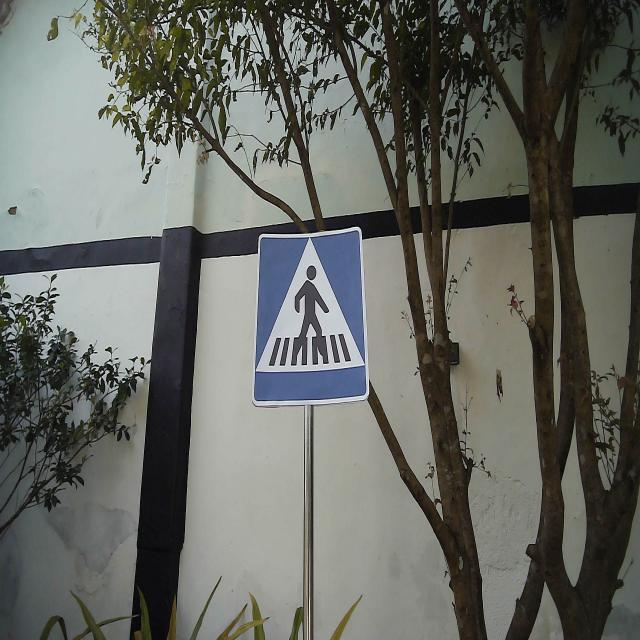crosswalk_sign: (250, 224, 371, 410)
